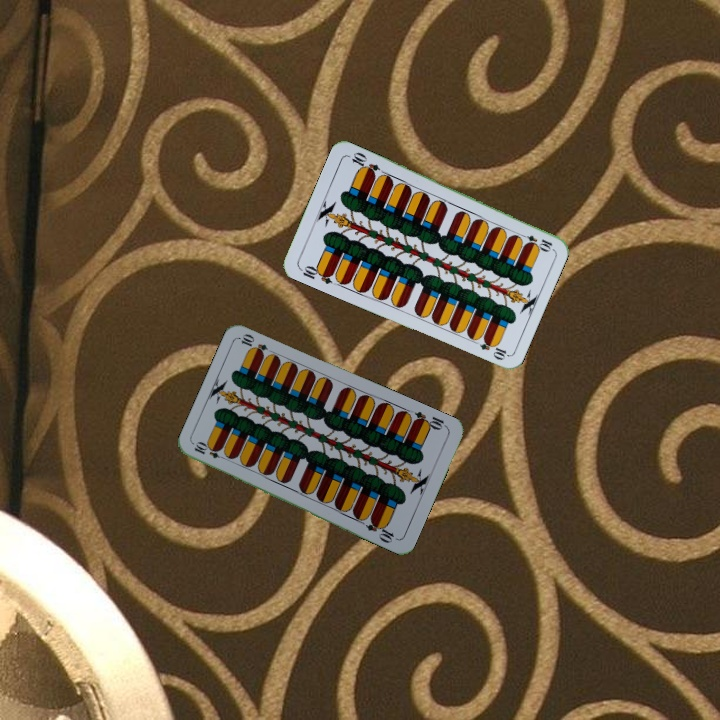E10: (409, 407, 450, 433), (296, 261, 336, 287), (190, 439, 230, 463), (515, 230, 555, 253)
